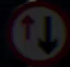Two way: (10, 5, 62, 53)
